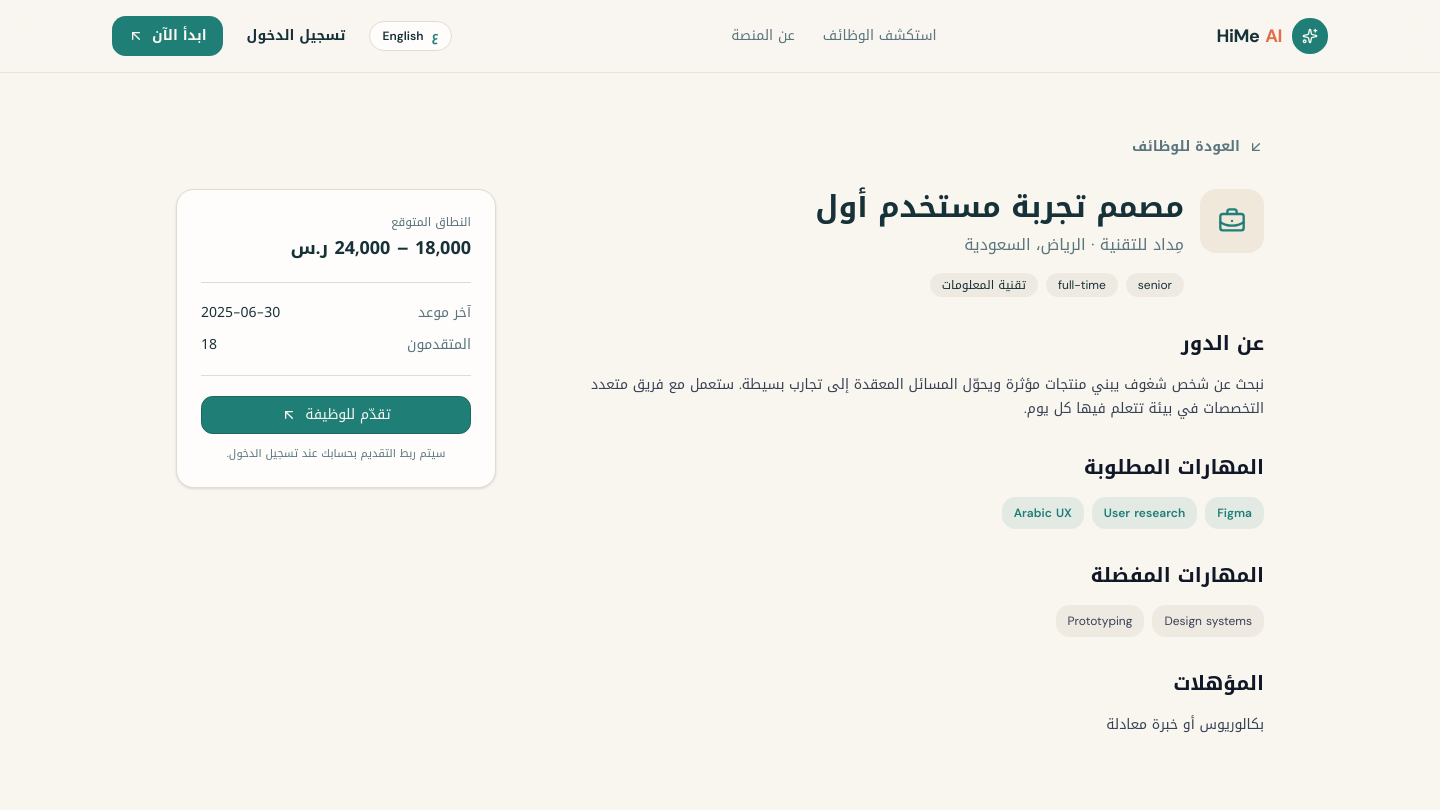
Test: application and candidate review flows › shows an application error when the service fails
Click the button with test id "button-apply-job": [336, 415] box [201,396,471,434]
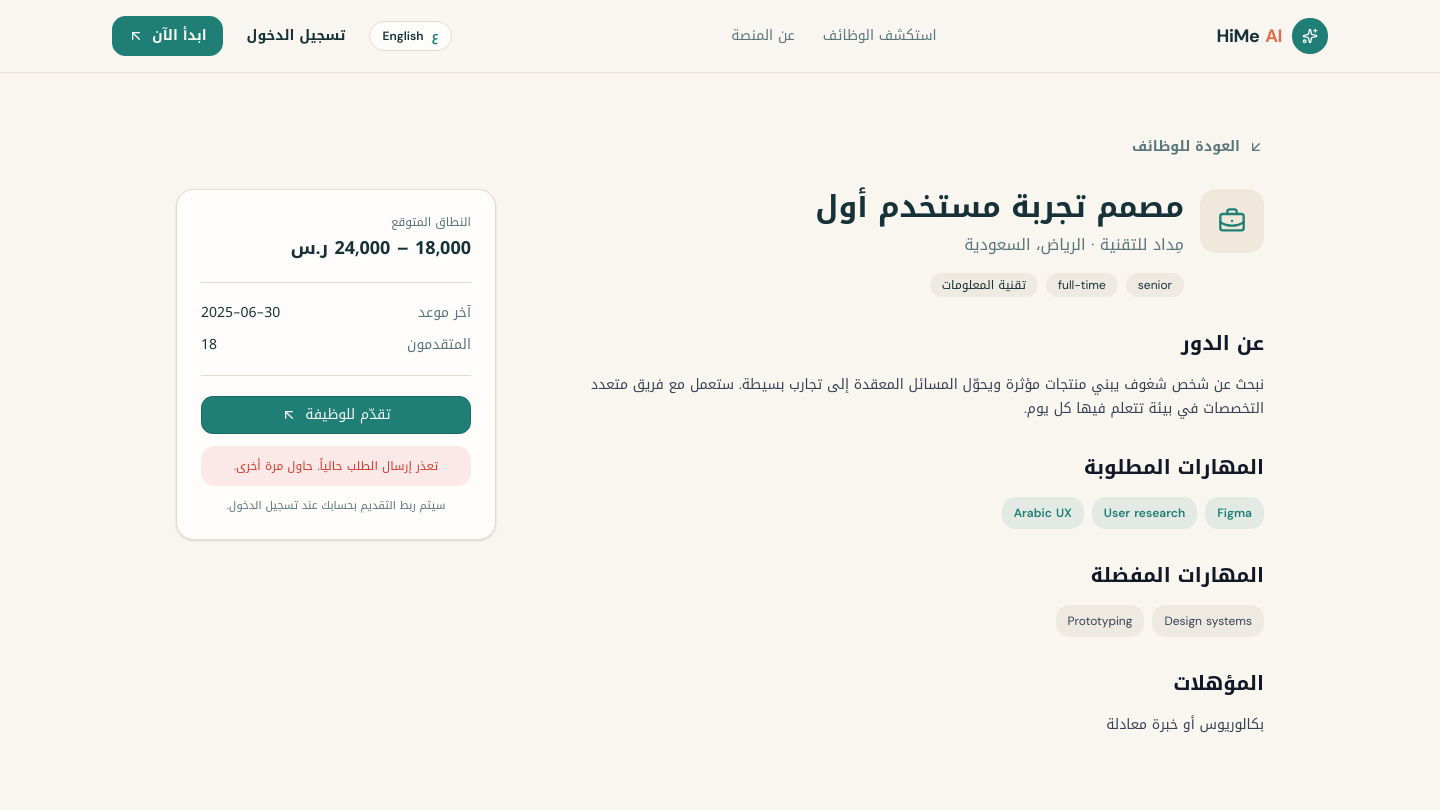
Now the message "تعذر إرسال الطلب حالياً. حاول مرة أخرى." is shown, box [201,446,471,486]
